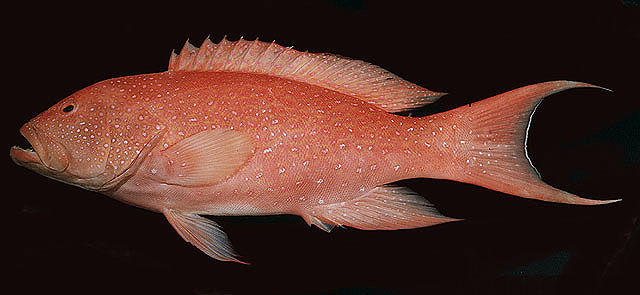fish: (9, 35, 623, 264)
